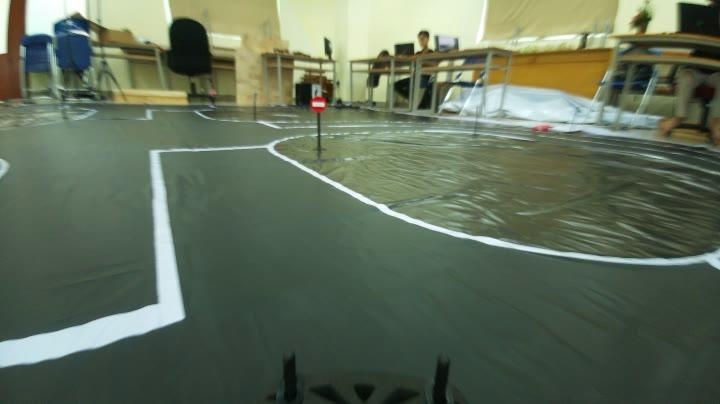no_entry: (304, 92, 330, 117)
